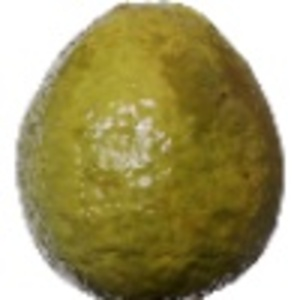goiaba: (14, 5, 285, 297)
